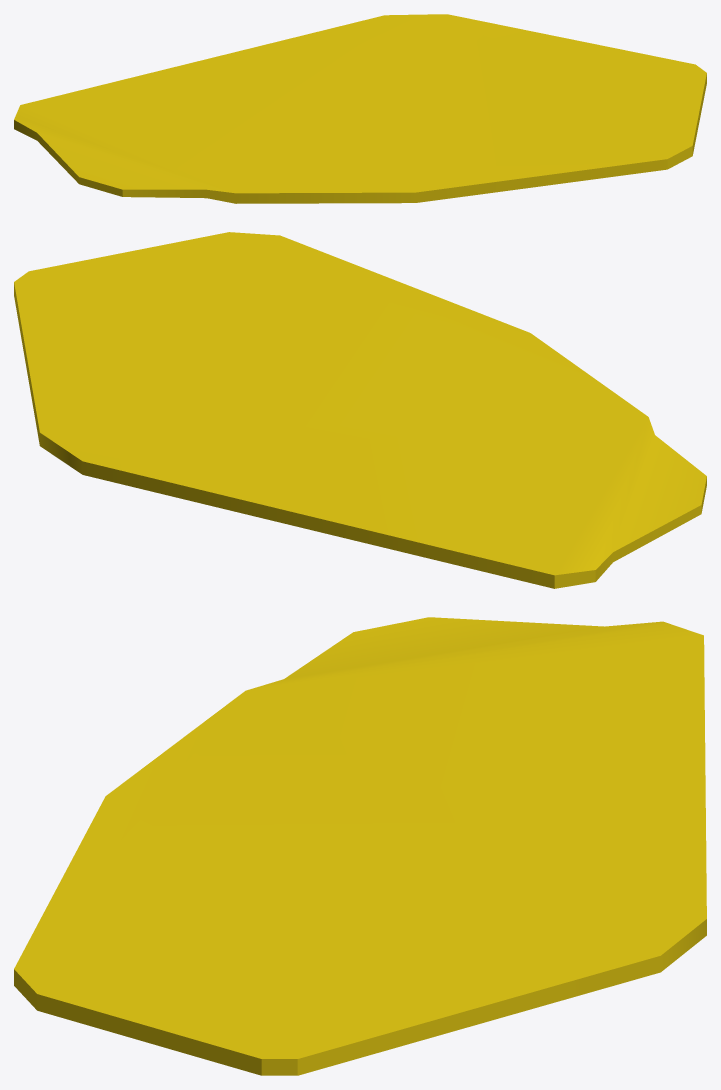
The model's file is PeePile.fbx.
The picture shows the model from 3 angles, top to bottom: view 1: azimuth 30°, elevation 25°; view 2: azimuth 150°, elevation 25°; view 3: azimuth 270°, elevation 25°; orthographic projection. The views are drawn at different scales.
Visible parts, largest first — view 1: Peepile; view 2: Peepile; view 3: Peepile.
Boxes of the visible parts, bbox=[...] form: Peepile: bbox=[14, 14, 706, 203]; Peepile: bbox=[14, 232, 706, 588]; Peepile: bbox=[14, 617, 706, 1075].
Size of the model in its own units: 356 by 6.64 by 233.
